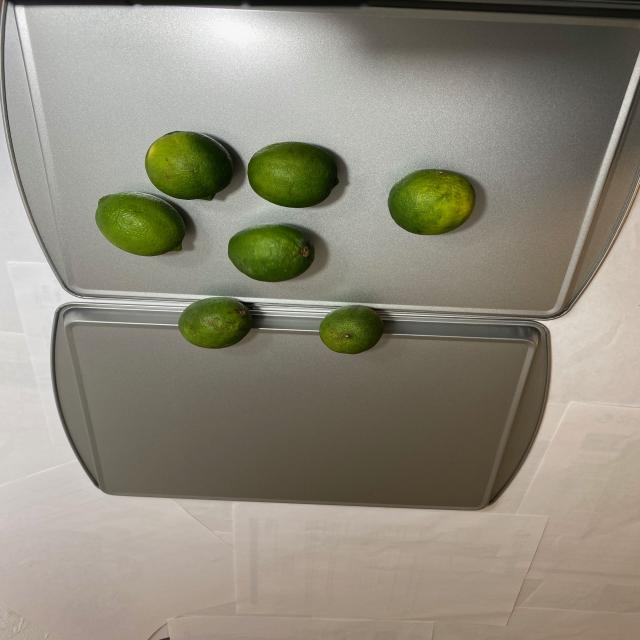lemon: (93, 128, 480, 358)
